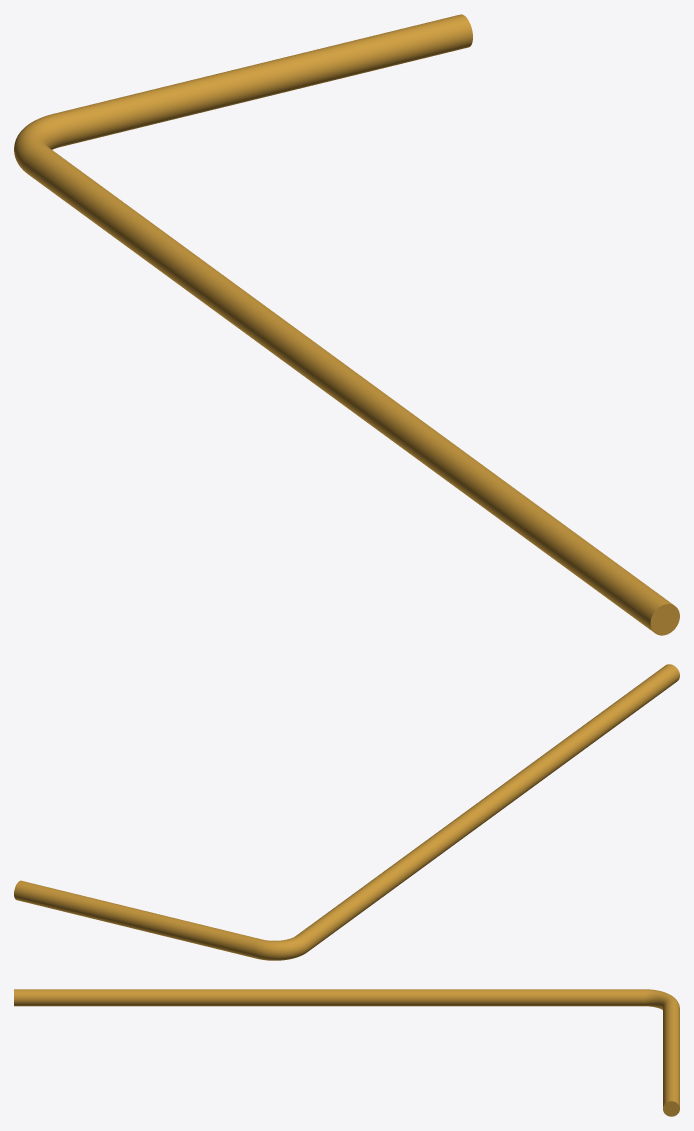
The model's file is WIRE50X20.obj.
3 renders of one model, top to bottom at view 1: azimuth 30°, elevation 25°; view 2: azimuth 150°, elevation 25°; view 3: azimuth 270°, elevation 25°, orthographic. The views are drawn at different scales.
Parts seen in each view (by area): view 1: Solid1; view 2: Solid1; view 3: Solid1.
Part boxes in pixels (box(x1,y1,x2,y2)): Solid1: box(14, 14, 679, 635); Solid1: box(14, 664, 679, 960); Solid1: box(14, 989, 679, 1116).
Bounding box in the file's own units: 20.65 × 1.3 × 50.65.
